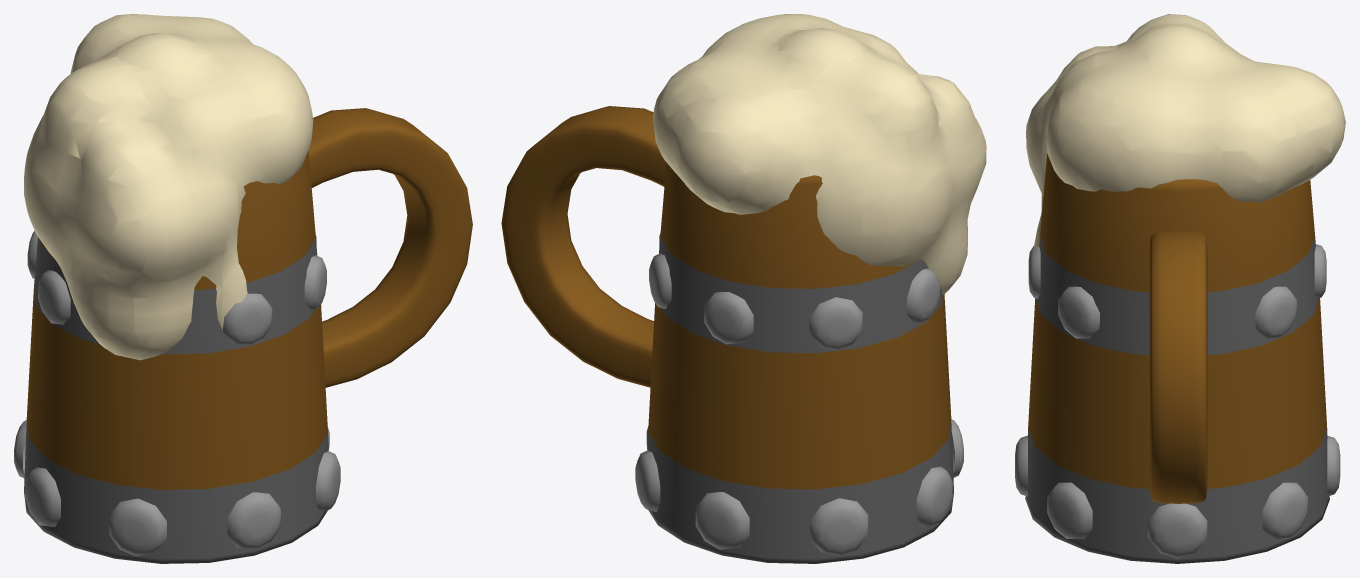
Rendered from Beer01.fbx.
The picture shows the model from 3 angles, left to right: view 1: azimuth 30°, elevation 25°; view 2: azimuth 150°, elevation 25°; view 3: azimuth 270°, elevation 25°; orthographic projection.
Parts seen in each view (by area): view 1: Beer01; view 2: Beer01; view 3: Beer01.
Boxes of the visible parts, x1,y1,x2,y2 form: Beer01: (14, 14, 472, 563); Beer01: (501, 14, 986, 563); Beer01: (1015, 14, 1345, 563).
Bounding box in the file's own units: 294 × 306 × 199.
